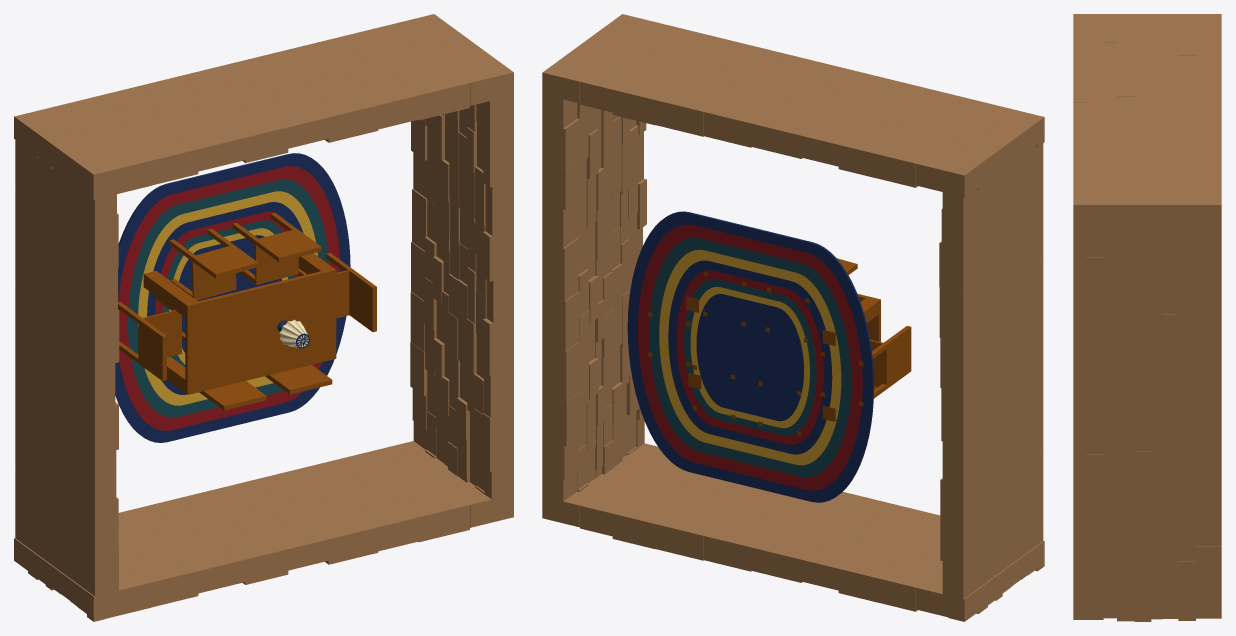
The model's file is tinker.obj.
3 renders of one model, left to right at view 1: azimuth 30°, elevation 25°; view 2: azimuth 150°, elevation 25°; view 3: azimuth 270°, elevation 25°, orthographic. The views are drawn at different scales.
Visible parts, largest first — view 1: group_0_11107152, group_0_9653770, group_0_1650274, group_0_9771553, group_0_1855578, group_0_14789940; view 2: group_0_11107152, group_0_1650274, group_0_9771553, group_0_1855578, group_0_14789940, group_0_9653770; view 3: group_0_11107152.
Part boxes in pixels (x1=…): group_0_11107152: x1=14, y1=14, x2=513, y2=621; group_0_9653770: x1=118, y1=212, x2=376, y2=410; group_0_1650274: x1=115, y1=153, x2=350, y2=442; group_0_9771553: x1=118, y1=166, x2=340, y2=430; group_0_1855578: x1=128, y1=179, x2=328, y2=417; group_0_14789940: x1=138, y1=191, x2=317, y2=405; group_0_11107152: x1=542, y1=14, x2=1044, y2=621; group_0_1650274: x1=627, y1=211, x2=873, y2=502; group_0_9771553: x1=638, y1=224, x2=862, y2=490; group_0_1855578: x1=649, y1=237, x2=851, y2=477; group_0_14789940: x1=659, y1=249, x2=841, y2=465; group_0_9653770: x1=648, y1=258, x2=911, y2=435; group_0_11107152: x1=1073, y1=14, x2=1221, y2=621.
Bounding box in the file's own units: 198 × 201 × 65.
